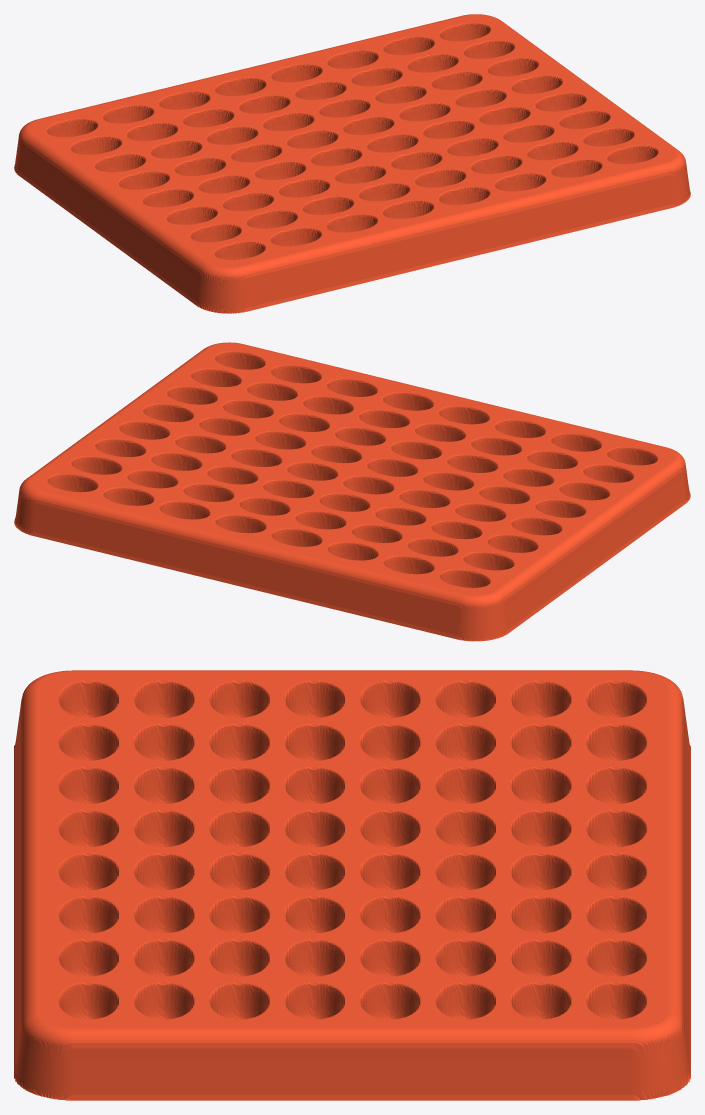
Rendered from mold.glb.
3 renders of one model, top to bottom at view 1: azimuth 30°, elevation 25°; view 2: azimuth 150°, elevation 25°; view 3: azimuth 270°, elevation 25°, orthographic. The views are drawn at different scales.
Visible parts, largest first — view 1: geometry_0; view 2: geometry_0; view 3: geometry_0.
Part boxes in pixels (x1=…): geometry_0: x1=14, y1=14, x2=690, y2=313; geometry_0: x1=14, y1=342, x2=690, y2=641; geometry_0: x1=14, y1=670, x2=690, y2=1100.
Size of the model in its own units: 0.1355 by 0.0105 by 0.1031.
